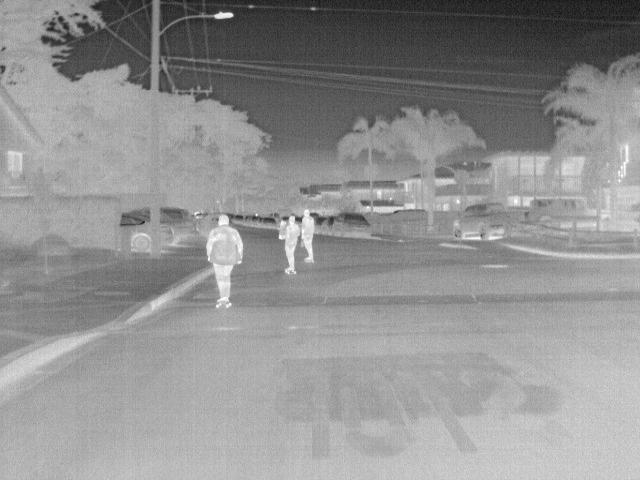car: (453, 203, 528, 238), (528, 194, 598, 228), (161, 204, 200, 248), (121, 212, 155, 255), (332, 212, 374, 240), (157, 226, 173, 250), (319, 215, 336, 235), (261, 216, 277, 230)
person: (206, 213, 246, 300), (280, 213, 302, 269), (300, 206, 319, 258)
